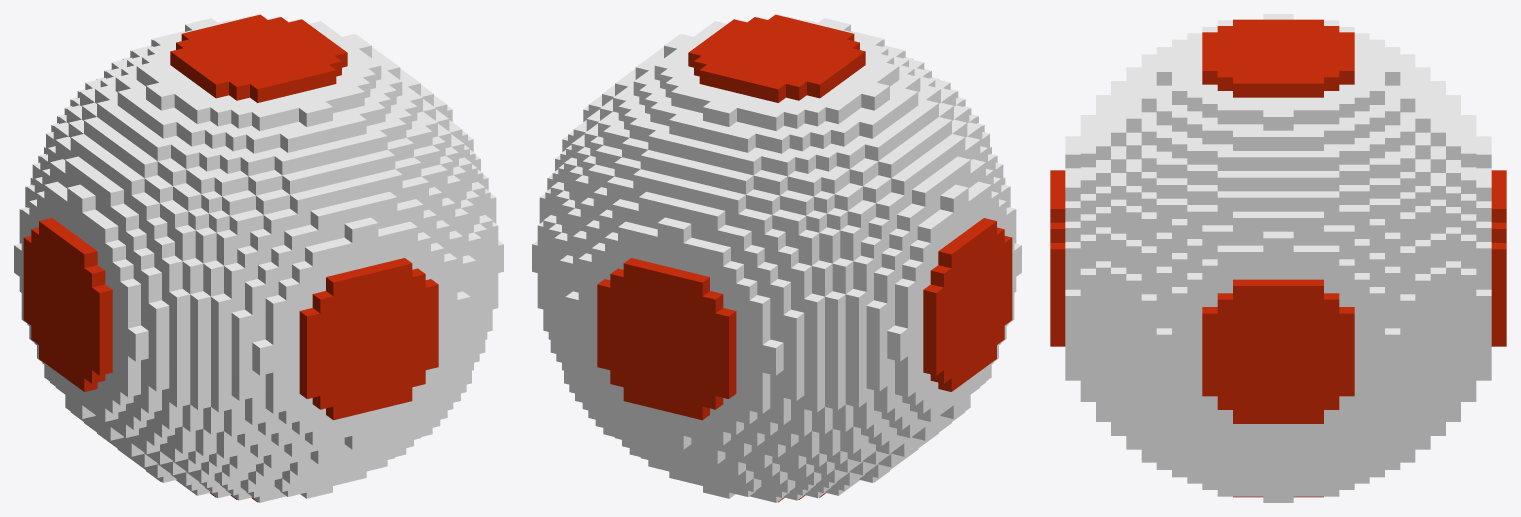
Rendered from Character_1.fbx.
3 renders of one model, left to right at view 1: azimuth 30°, elevation 25°; view 2: azimuth 150°, elevation 25°; view 3: azimuth 270°, elevation 25°, orthographic.
Parts seen in each view (by area): view 1: Character_1; view 2: Character_1; view 3: Character_1.
Part boxes in pixels (bbox=[...]): Character_1: bbox=[14, 14, 503, 502]; Character_1: bbox=[532, 14, 1021, 502]; Character_1: bbox=[1050, 14, 1506, 502].
Size of the model in its own units: 30 by 30 by 30.
1 material, 1 textured.
